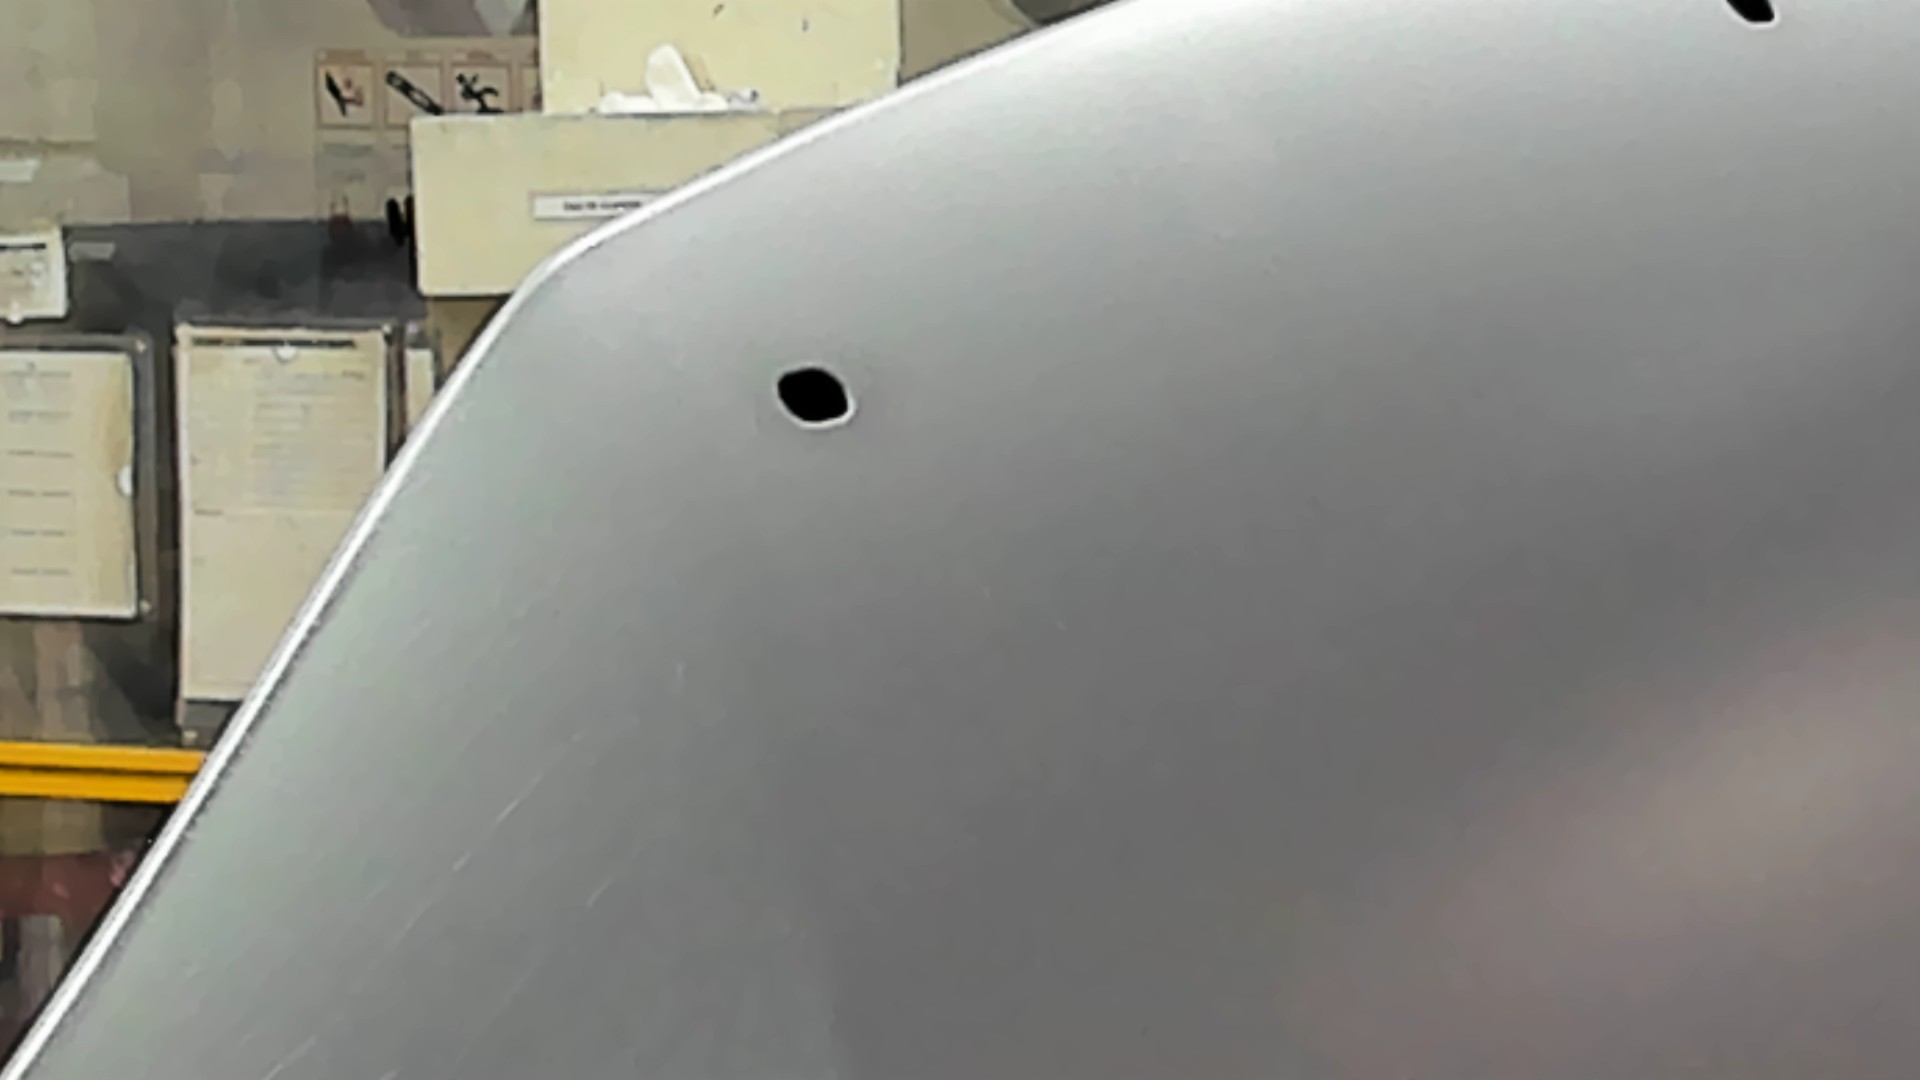amorfo: (769, 353, 862, 438), (1720, 1, 1782, 32)
capo: (952, 105, 1920, 1080)
